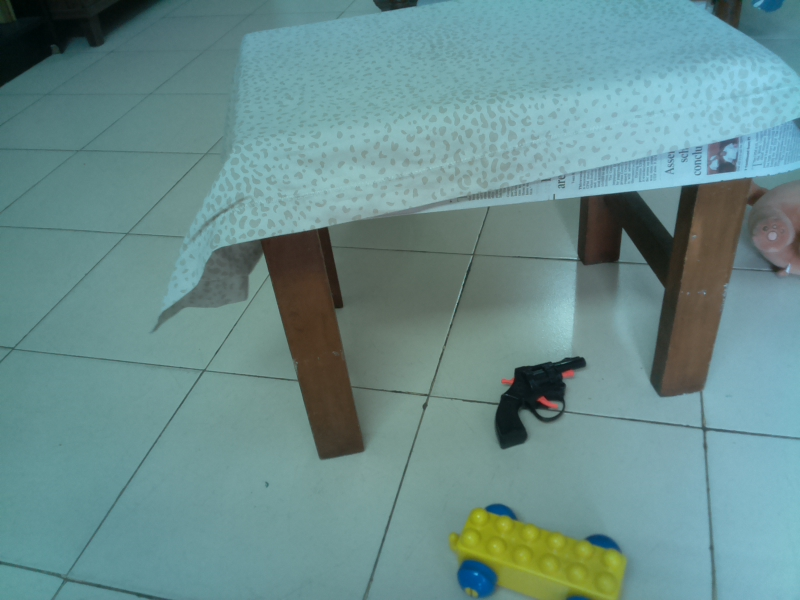Gun: (490, 352, 594, 451)
toy_Car: (445, 498, 629, 599)
